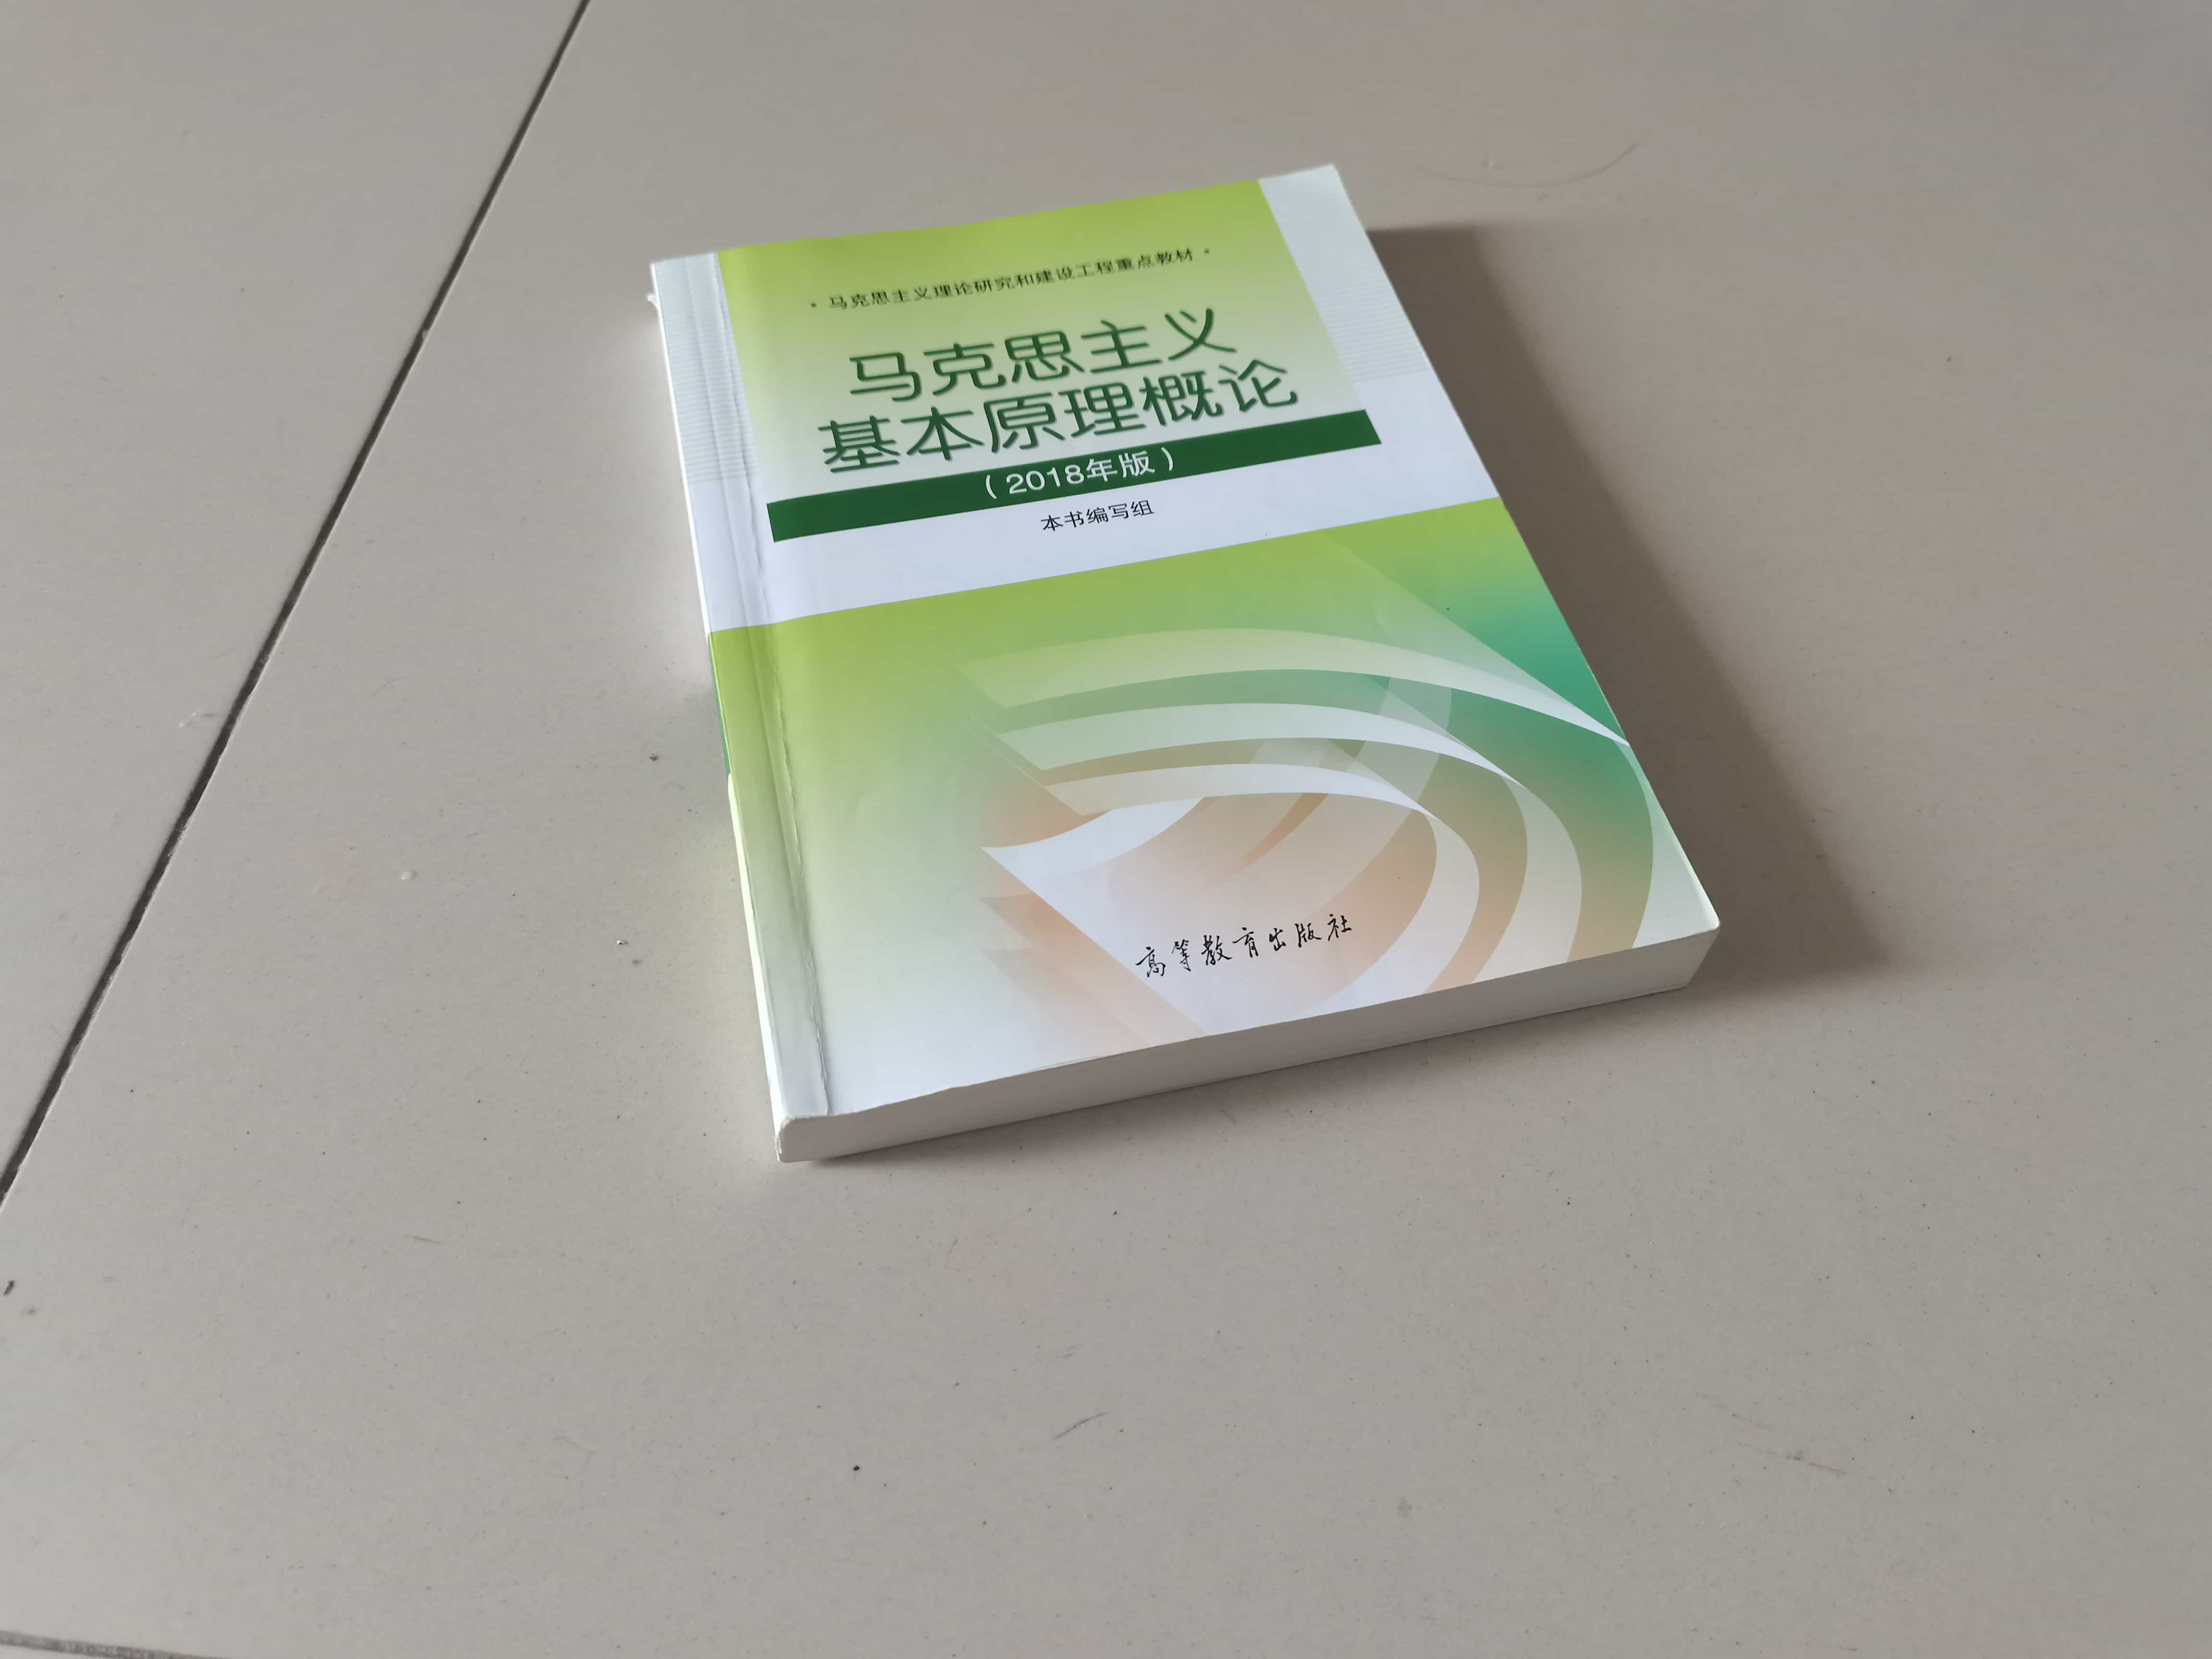book: (620, 146, 1759, 1185)
